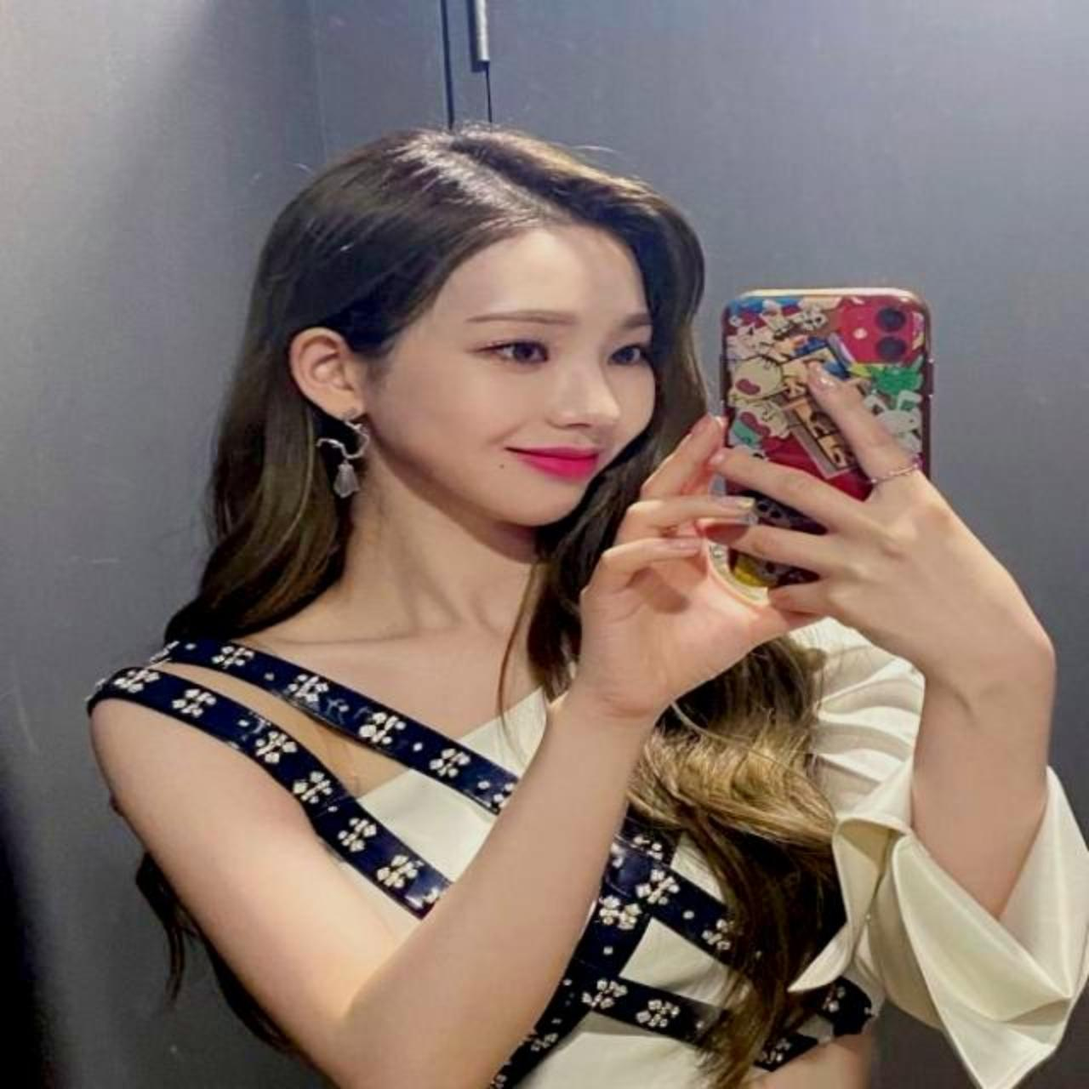phone: (713, 276, 941, 609)
